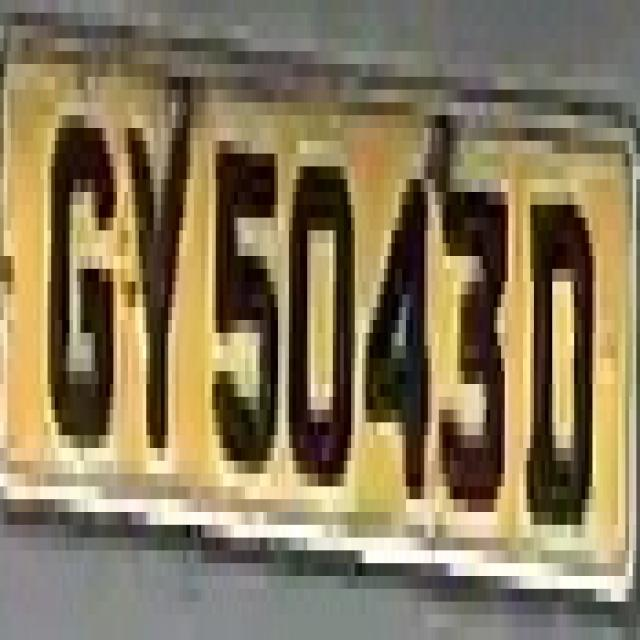0: (286, 115, 358, 525)
3: (432, 90, 516, 550)
4: (362, 115, 435, 525)
5: (215, 115, 292, 563)
D: (519, 166, 600, 589)
G: (41, 26, 114, 435)
Y: (110, 77, 198, 525)
